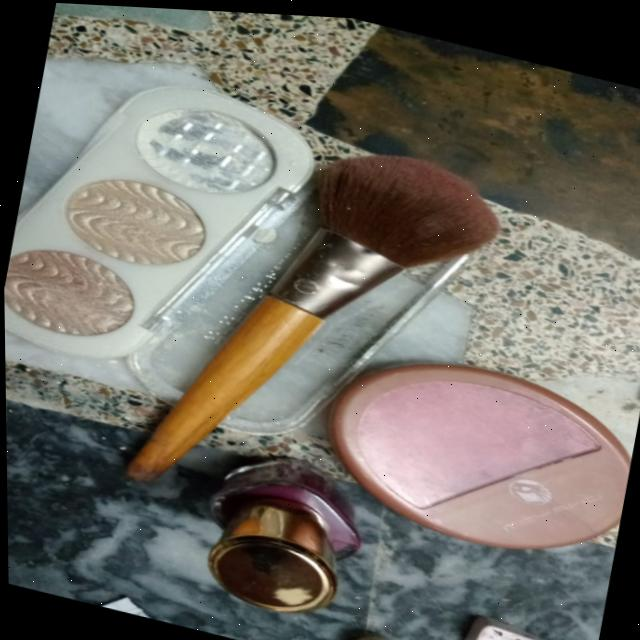brush: (252, 124, 541, 370)
highlighter: (1, 43, 358, 463)
lip stick: (146, 408, 410, 640)
powder: (300, 301, 640, 589)
